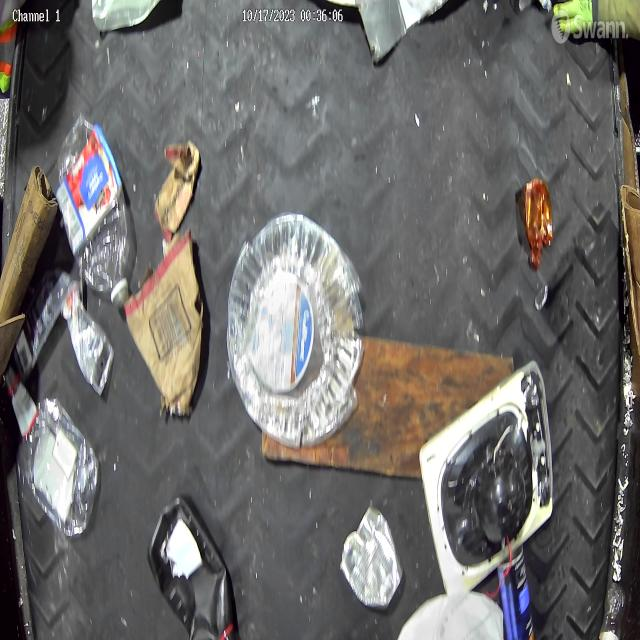can: (340, 502, 403, 608)
milk_jug: (393, 588, 507, 640)
non_white_jug: (147, 495, 236, 640)
plastic_bottle: (59, 114, 132, 300)
